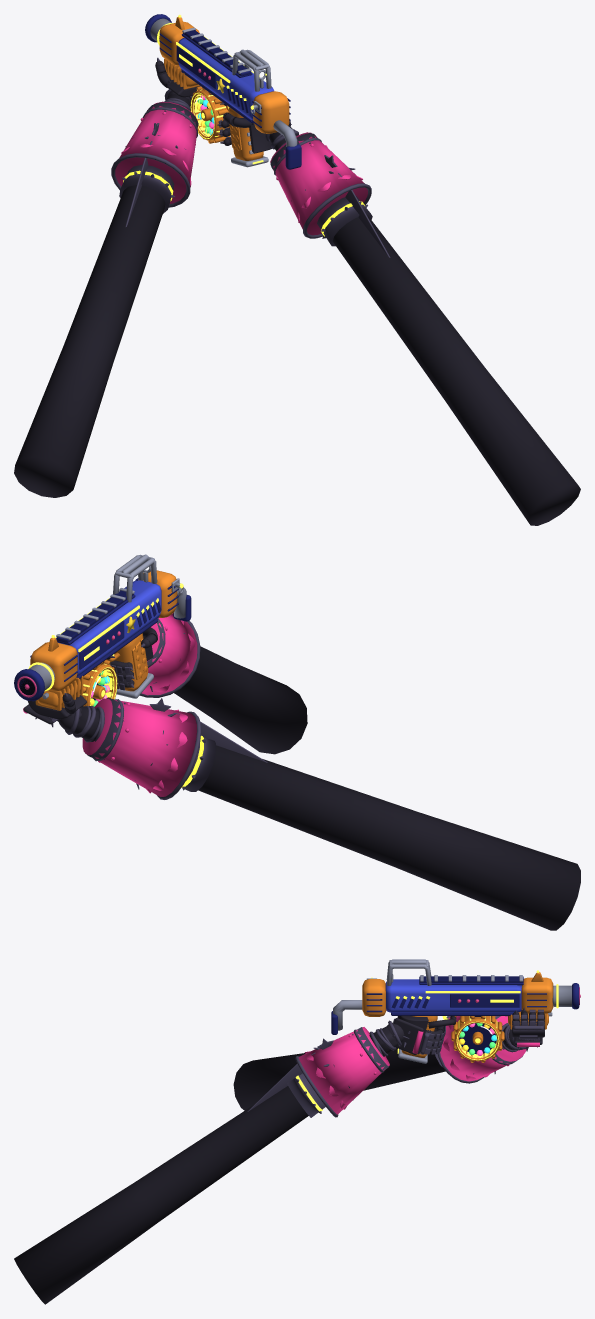
The model's file is drum_popper.glb.
3 renders of one model, top to bottom at view 1: azimuth 30°, elevation 25°; view 2: azimuth 150°, elevation 25°; view 3: azimuth 270°, elevation 25°, orthographic. The views are drawn at different scales.
Parts seen in each view (by area): view 1: ArmR, ArmL, Shell, ArmRKitBell, ArmLKitBell, Drum, IronSightRear; view 2: ArmL, Shell, ArmR, ArmLKitBell, ArmRKitBell, IronSightRear, Drum, Pump, ArmLKitFins, ArmLKitGauntlet, ArmLKitWraps; view 3: ArmR, Shell, ArmRKitBell, ArmL, ArmLKitBell, Drum, ArmRKitMitten, ArmRKitGauntlet, IronSightRear, ArmRKitFins.
Boxes of the visible parts, <box> form: ArmR: <box>221,104,580,525</box>; ArmL: <box>14,61,200,497</box>; Shell: <box>145,14,301,169</box>; ArmRKitBell: <box>270,132,371,238</box>; ArmLKitBell: <box>111,101,197,207</box>; Drum: <box>190,86,229,143</box>; IronSightRear: <box>232,49,271,91</box>; ArmL: <box>28,693,580,930</box>; Shell: <box>14,570,191,701</box>; ArmR: <box>107,627,307,754</box>; ArmLKitBell: <box>82,698,201,799</box>; ArmRKitBell: <box>139,614,200,697</box>; IronSightRear: <box>113,554,157,602</box>; Drum: <box>80,660,117,706</box>; Pump: <box>35,676,83,710</box>; ArmLKitFins: <box>57,712,267,762</box>; ArmLKitGauntlet: <box>28,698,130,762</box>; ArmLKitWraps: <box>65,706,104,741</box>; ArmR: <box>14,1015,456,1304</box>; Shell: <box>331,975,580,1063</box>; ArmRKitBell: <box>295,1027,389,1117</box>; ArmL: <box>233,1010,544,1110</box>; ArmLKitBell: <box>437,1016,526,1083</box>; Drum: <box>451,1016,504,1062</box>; ArmRKitMitten: <box>394,1018,423,1054</box>; ArmRKitGauntlet: <box>348,1018,445,1074</box>; IronSightRear: <box>386,959,431,985</box>; ArmRKitFins: <box>247,1036,409,1111</box>.
Bounding box in the file's own units: 1.41 × 1.06 × 1.79.
